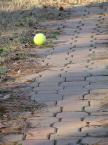tennis ball: (32, 31, 48, 47)
